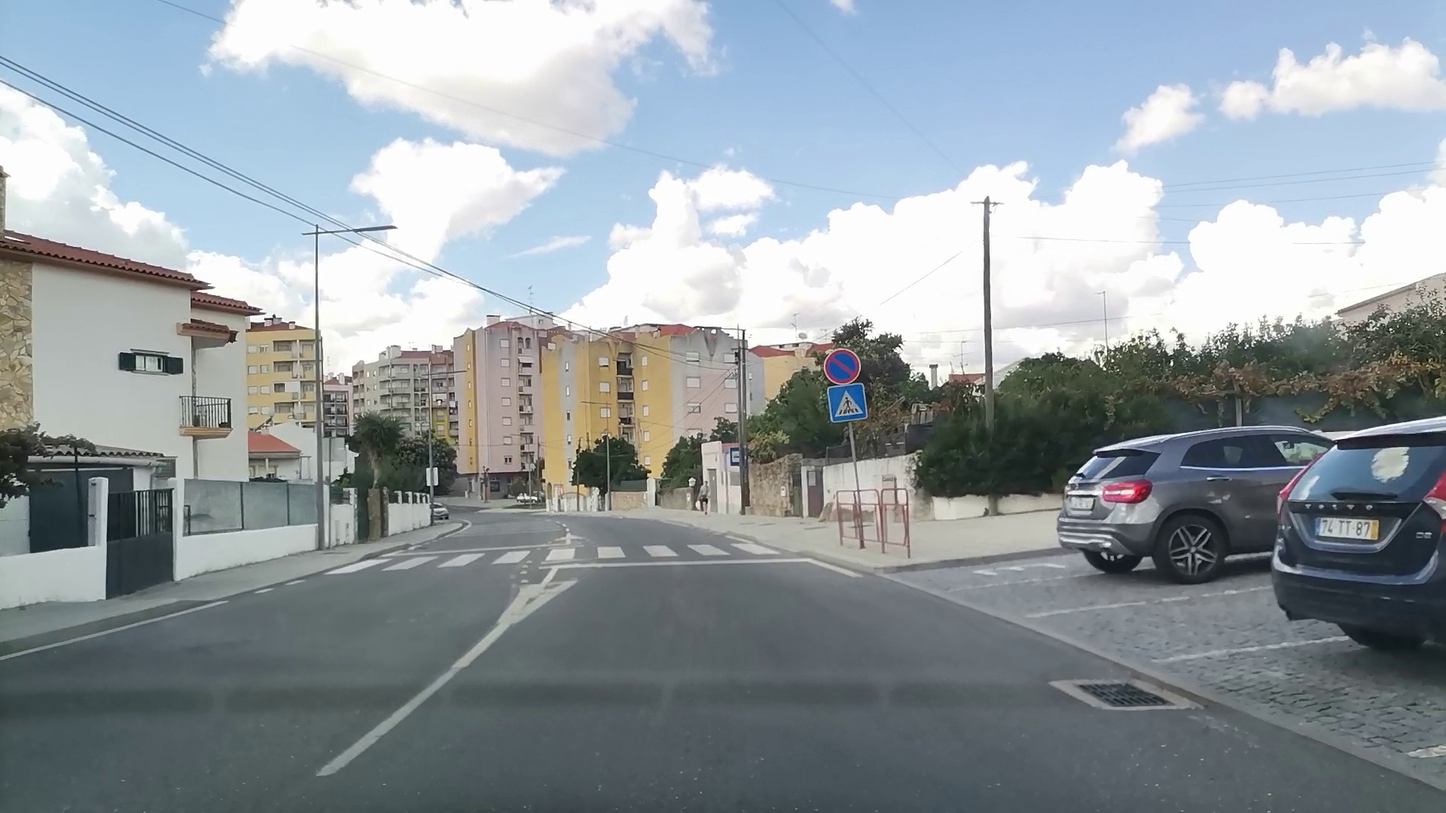Stairs: (326, 536, 779, 577)
